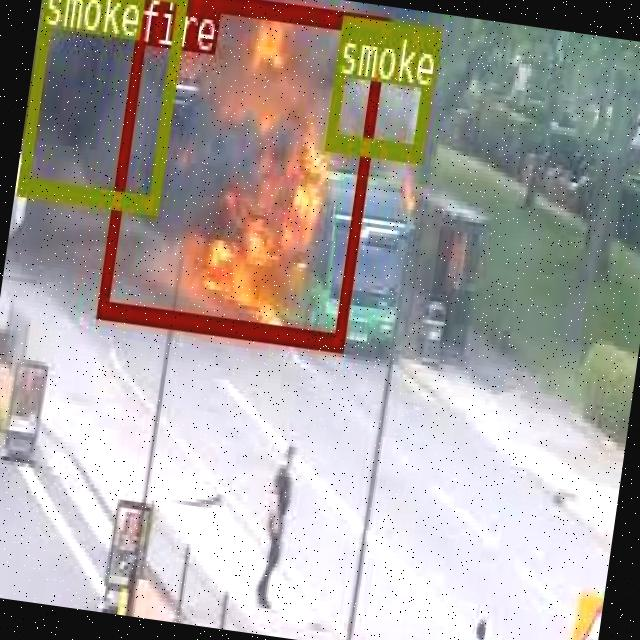fire: (96, 0, 387, 349)
smoke: (16, 0, 187, 212), (323, 14, 438, 160)
